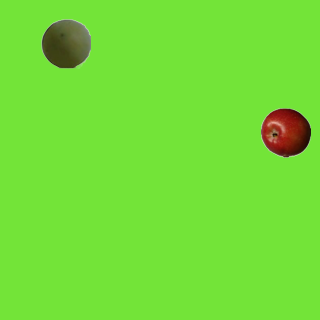Apple Braeburn: (260, 107, 310, 157)
Grape White 4: (40, 18, 90, 68)
